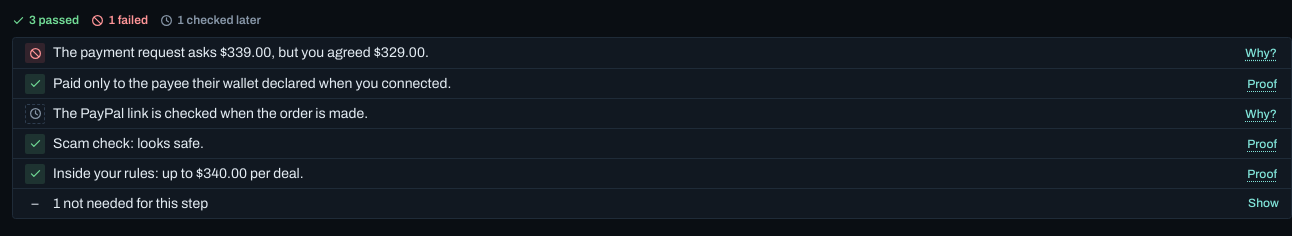
Test: WalletChecks › renders every line in the wallet’s order with its exact words and a labelled mark
Expected: the list item with class "fold" shows "1 not needed for this step", [13,188,1291,218]
Click the button with aria-label "Show the 1 not needed for this step" at (1264, 204), box [1248,192,1279,216]
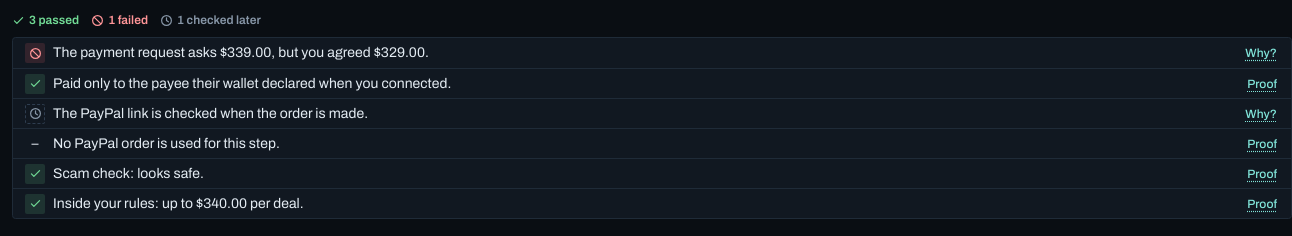
Expected: the text with class "cs-name" reads "The payment request asks $339.00, but you agreed $329.00.", [53,45,429,60]
Now the text with class "cs-name" reads "No PayPal order is used for this step.", box [53,136,280,151]
